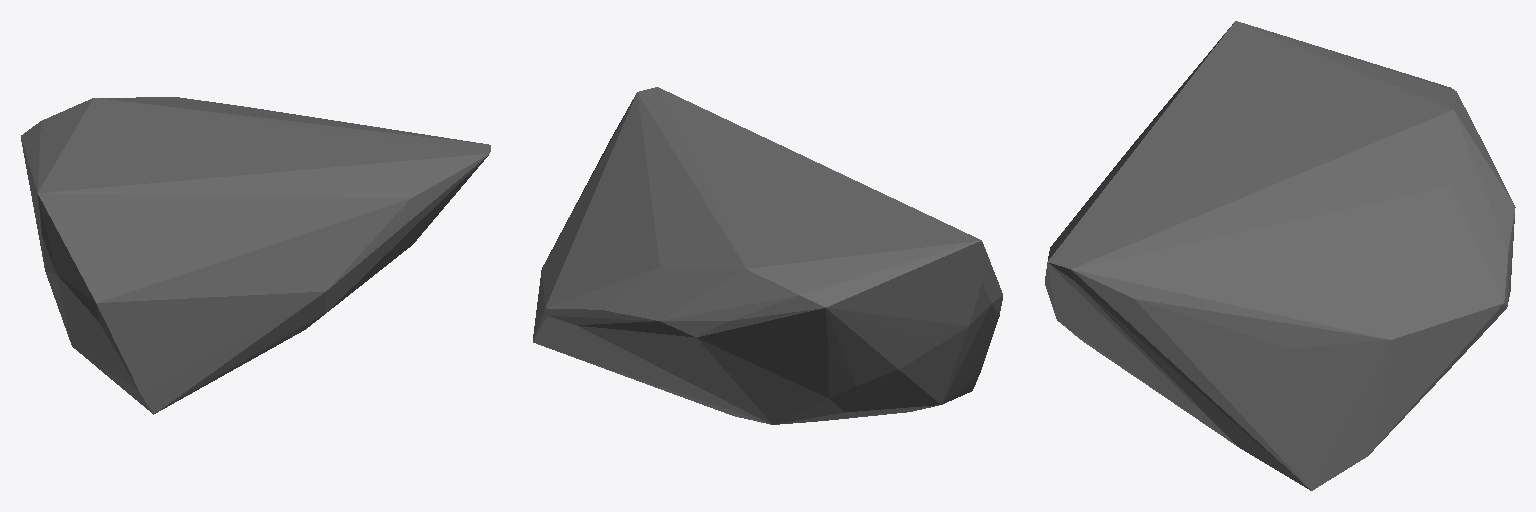
The robot description file, URDF, robot "30_152":
<?xml version="1.0"?>
<robot name="30_152">
  <link name="link">
    <contact>
      <lateral_friction value="0.6"/>
    </contact>
    <inertial>
      <origin xyz="0.001310066219914941 -0.0035489070563613496 0.0037466197389240665" rpy="0 0 0"/>
      <mass value = "0.6759866278257988"/>
      <inertia ixx="0.00035948646403809095" ixy="-4.218600139225447e-07" ixz="6.7948447226727245e-06" iyy="0.0005676387054671682" iyz="1.2673414101021467e-05" izz="0.0006972171747451714" />
    </inertial>
    <visual name="visual">
      <geometry>
        <mesh filename="30_152.obj"/>
      </geometry>
      <material name="material">
        <color rgba="0.45157573995875394 0.45157573995875394 0.45157573995875394 1.0"/>
      </material>
    </visual>
    <collision name="collision">
      <geometry>
        <mesh filename="30_152.obj"/>
      </geometry>
    </collision>
  </link>
</robot>

--- Render facts (derived) ---
The picture shows the robot from 3 angles, left to right: view 1: azimuth 30°, elevation 25°; view 2: azimuth 150°, elevation 25°; view 3: azimuth 270°, elevation 25°; orthographic projection.
Model 30_152 with 1 links and 0 joints (none), rooted at link, posed every joint at zero.
Links seen in each view (by area): view 1: link; view 2: link; view 3: link.
Link boxes in pixels (box(x1,y1,x2,y2)): link: box(21, 97, 490, 414); link: box(533, 87, 1002, 424); link: box(1045, 21, 1515, 490).
Size in the robot's own frame: 0.1099 by 0.0882 by 0.0541 metres.
1 mesh visuals loaded from 1 distinct referenced files (1 OBJ).
